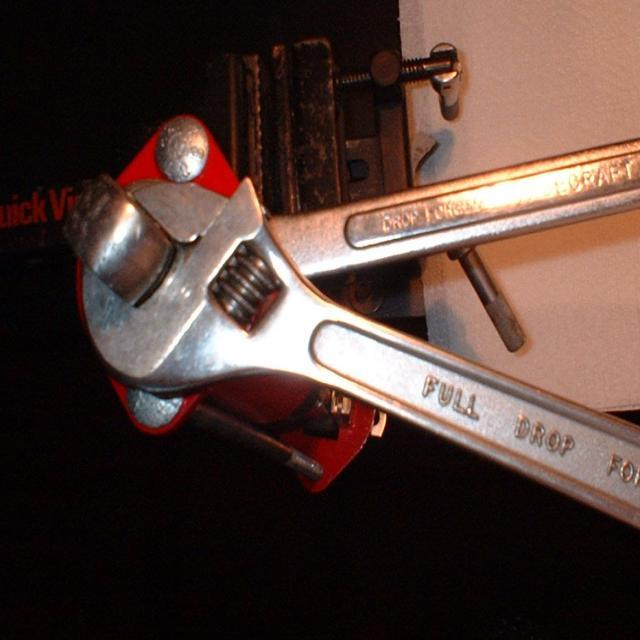wrench: (75, 166, 640, 528)
